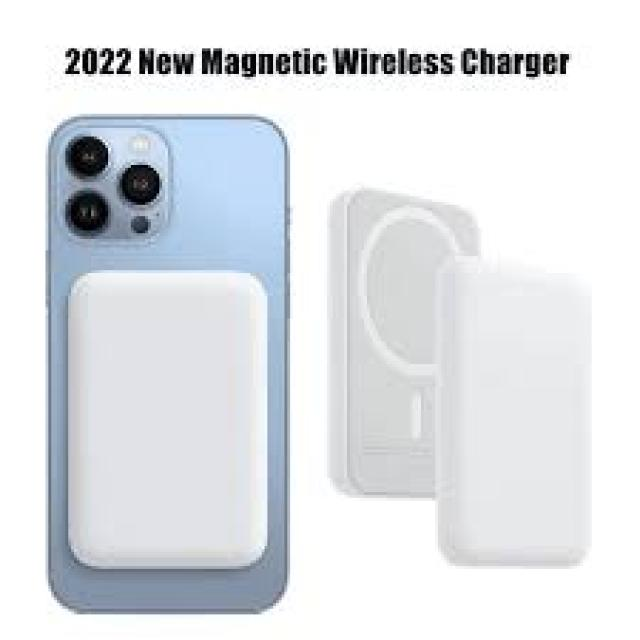power_bank: (59, 260, 278, 581), (429, 262, 603, 567), (323, 183, 482, 508)
